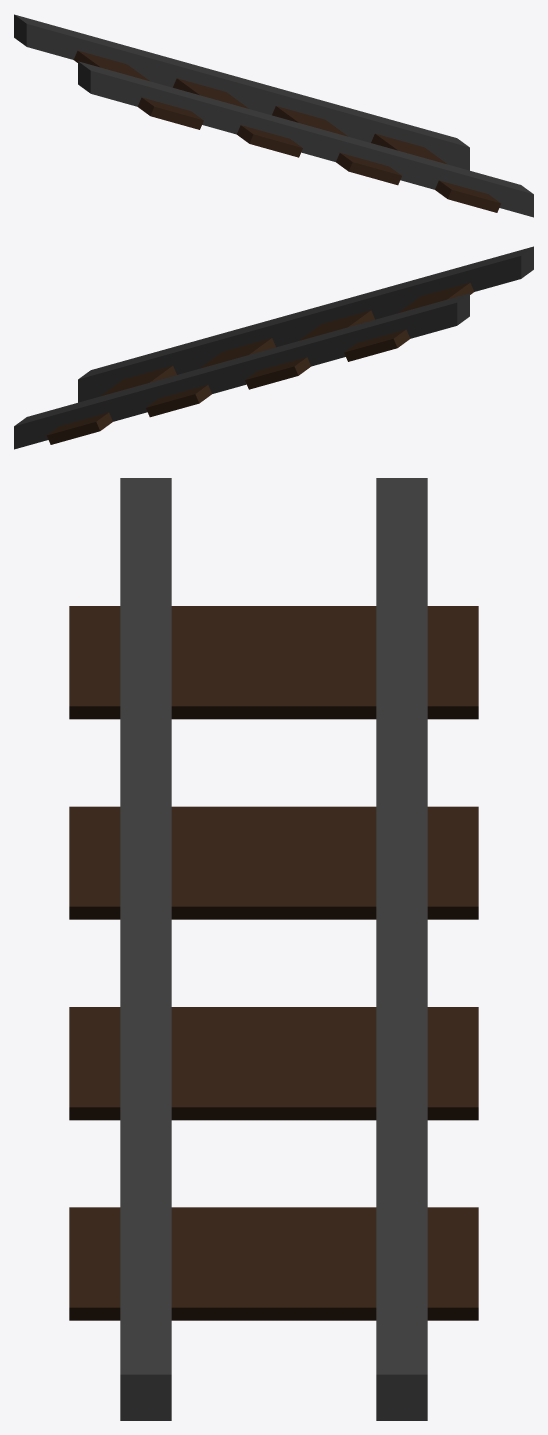
File: Cave_Lair_Rail_Road_Track_Straight_Incline_01.fbx
3 views of the same model, one above another, from view 1: azimuth 30°, elevation 25°; view 2: azimuth 150°, elevation 25°; view 3: azimuth 270°, elevation 25° (orthographic). The views are drawn at different scales.
Visible parts, largest first — view 1: Cave_Lair_Rail_Road_Track_Straight_Incline_01; view 2: Cave_Lair_Rail_Road_Track_Straight_Incline_01; view 3: Cave_Lair_Rail_Road_Track_Straight_Incline_01.
Part boxes in pixels (x1,y1,x2,y2): Cave_Lair_Rail_Road_Track_Straight_Incline_01: [14, 14, 533, 217]; Cave_Lair_Rail_Road_Track_Straight_Incline_01: [14, 246, 533, 449]; Cave_Lair_Rail_Road_Track_Straight_Incline_01: [69, 478, 478, 1420].
Size of the model in its own units: 2 by 1.1 by 0.8.
